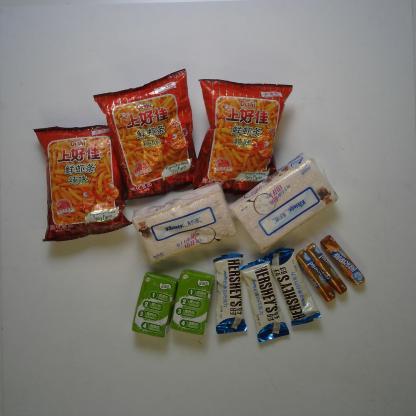Candy: (320, 234, 366, 286), (306, 242, 347, 295), (296, 249, 336, 302)
Chocolate: (238, 257, 290, 343), (268, 248, 321, 328), (212, 253, 248, 334)
Milk: (131, 271, 178, 339), (170, 269, 215, 336)
Puffed Food: (92, 67, 198, 201), (193, 78, 293, 198), (33, 125, 134, 242)
Tissue: (229, 152, 339, 256), (131, 181, 237, 266)
